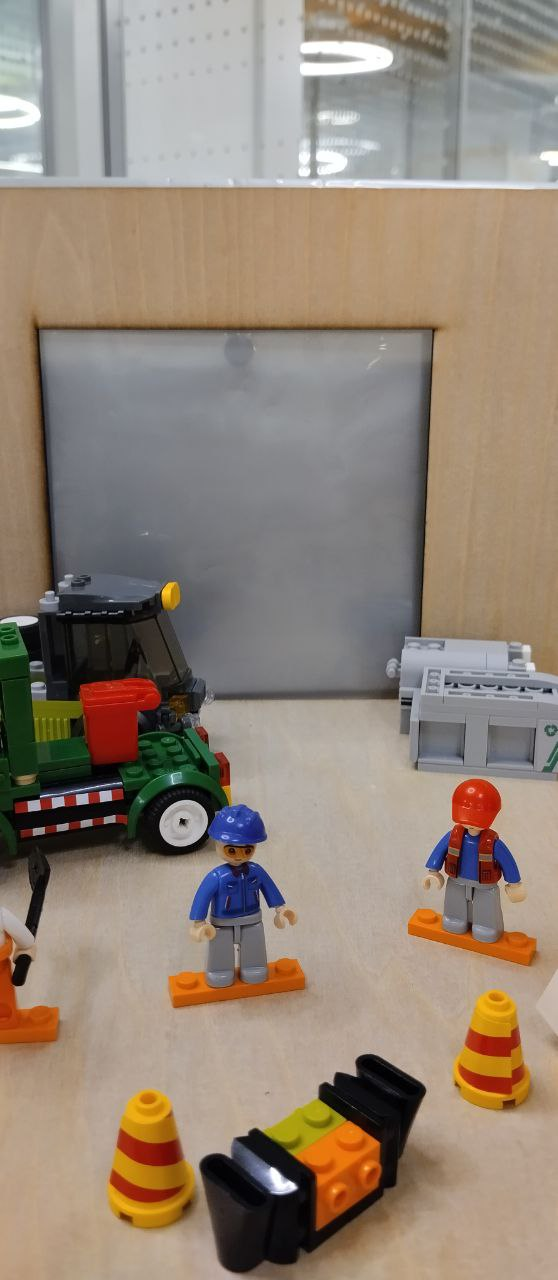Cone: (104, 1087, 196, 1227), (454, 989, 536, 1114)
Crane: (1, 573, 201, 732)
Object Black: (200, 1054, 426, 1272)
Object Red: (77, 681, 155, 765)
Truck: (0, 632, 244, 848)
